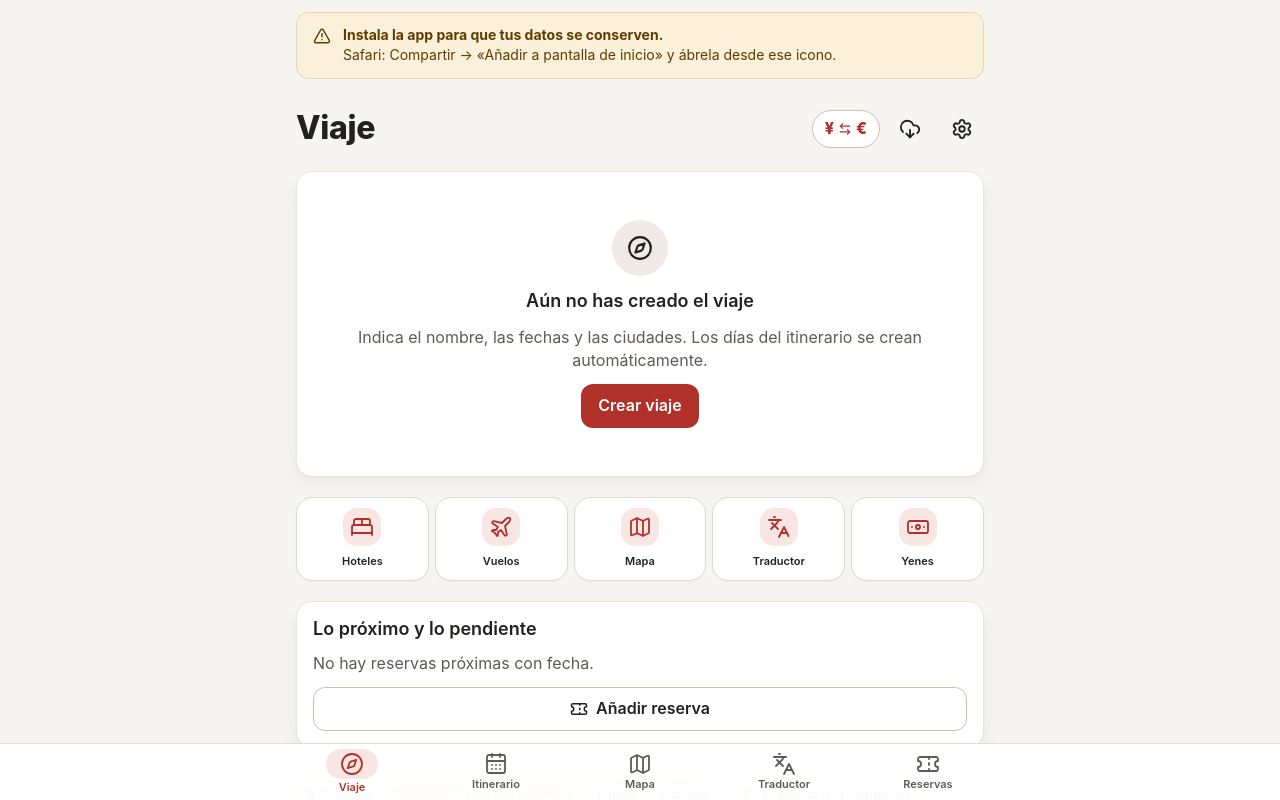
Test: App › muestra estados vacíos honestos y la navegación de 5 secciones
Expected: the text "Aún no has creado el viaje" is shown, [526,288,754,314]
Expected: the navigation bar named "Secciones" shows "Viaje", [280,744,424,799]
Step 1. Click the 2nd link "Mapa" → (640, 771), box [625,752,655,790]
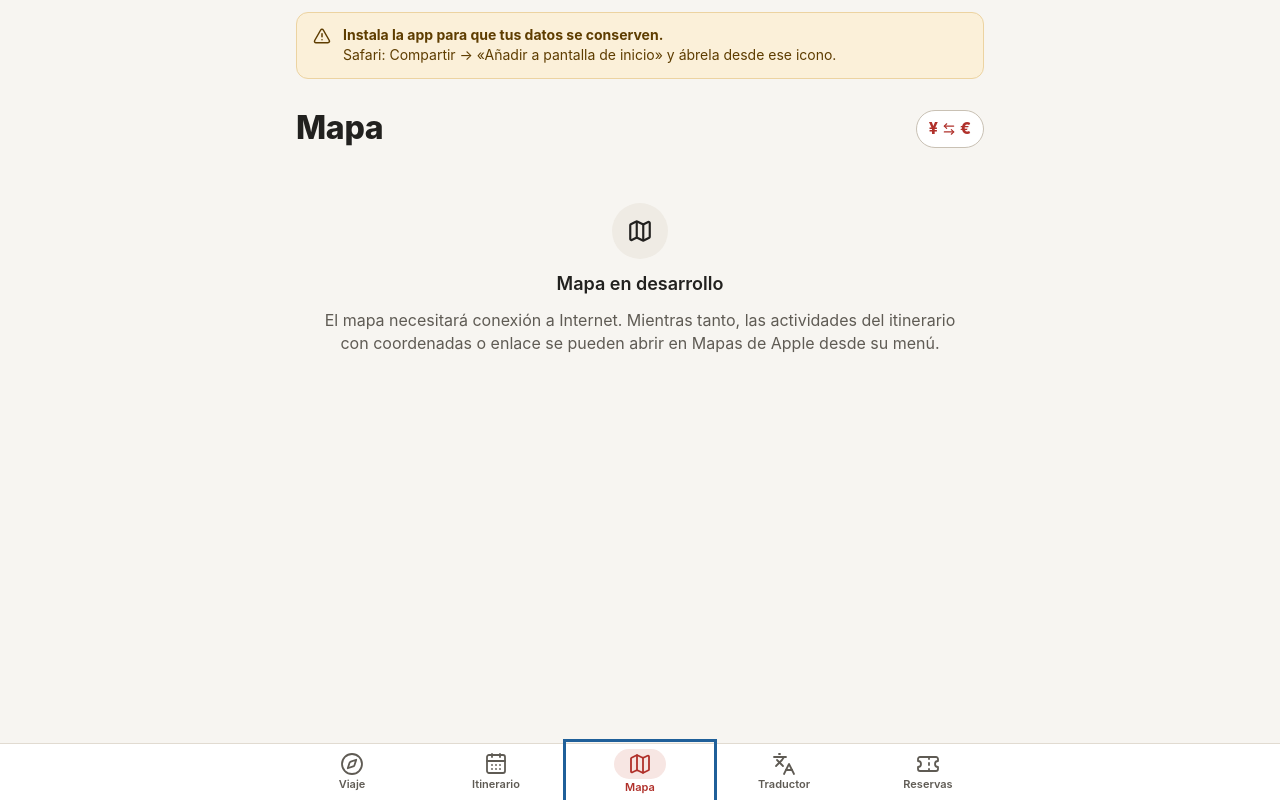
Result: the text "Mapa en desarrollo" is shown at [556,271,723,297]
